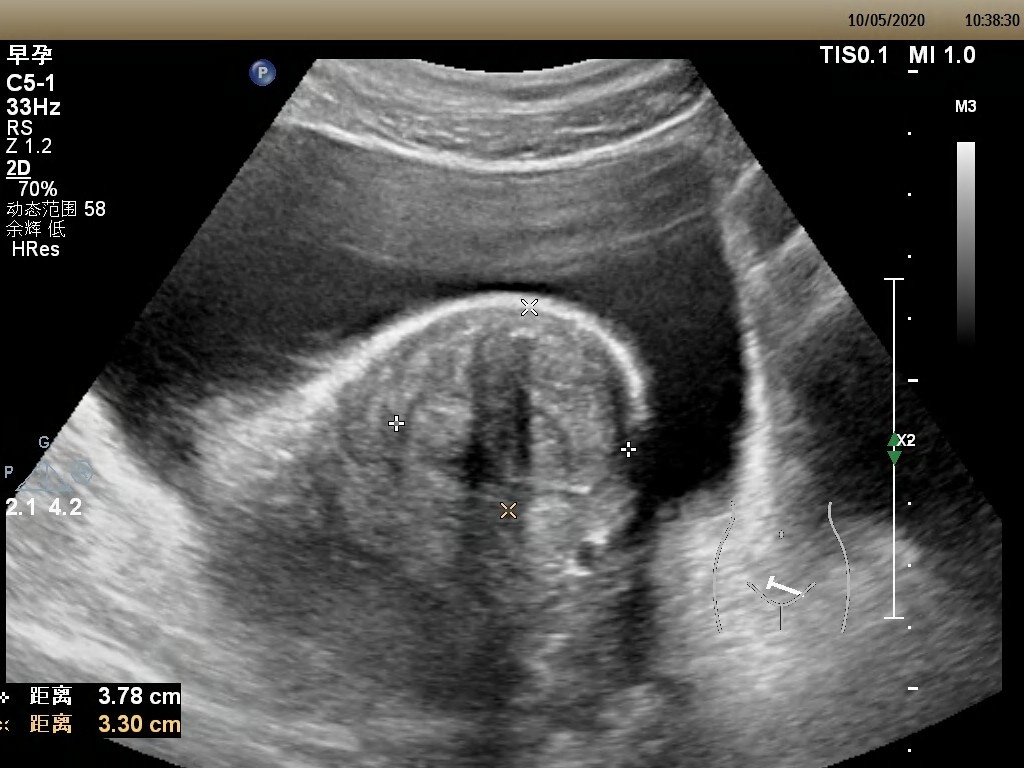肌瘤: (383, 313, 626, 503)
